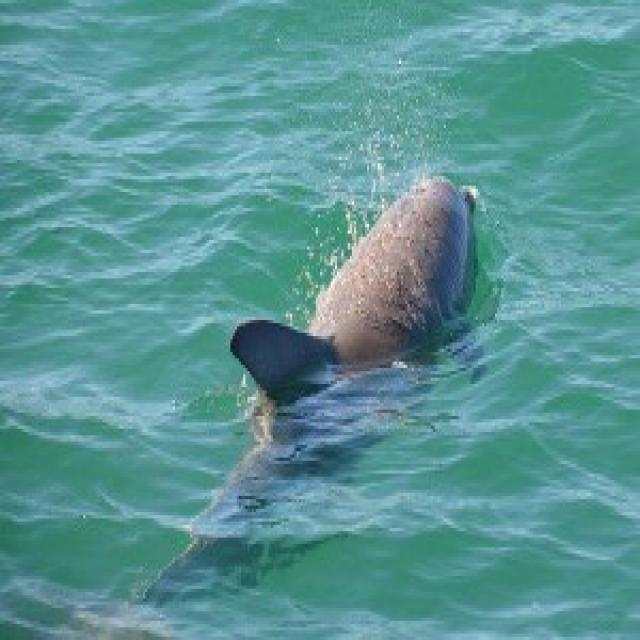Dolphin: (107, 165, 516, 640)
